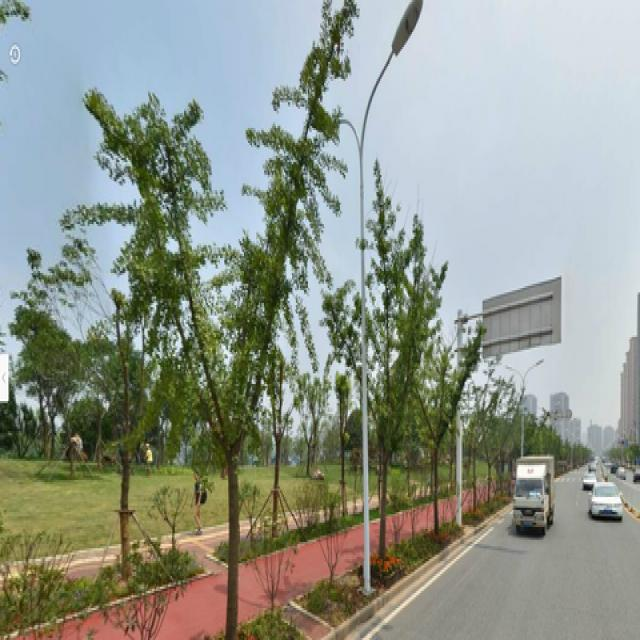gink: (96, 21, 353, 610)
